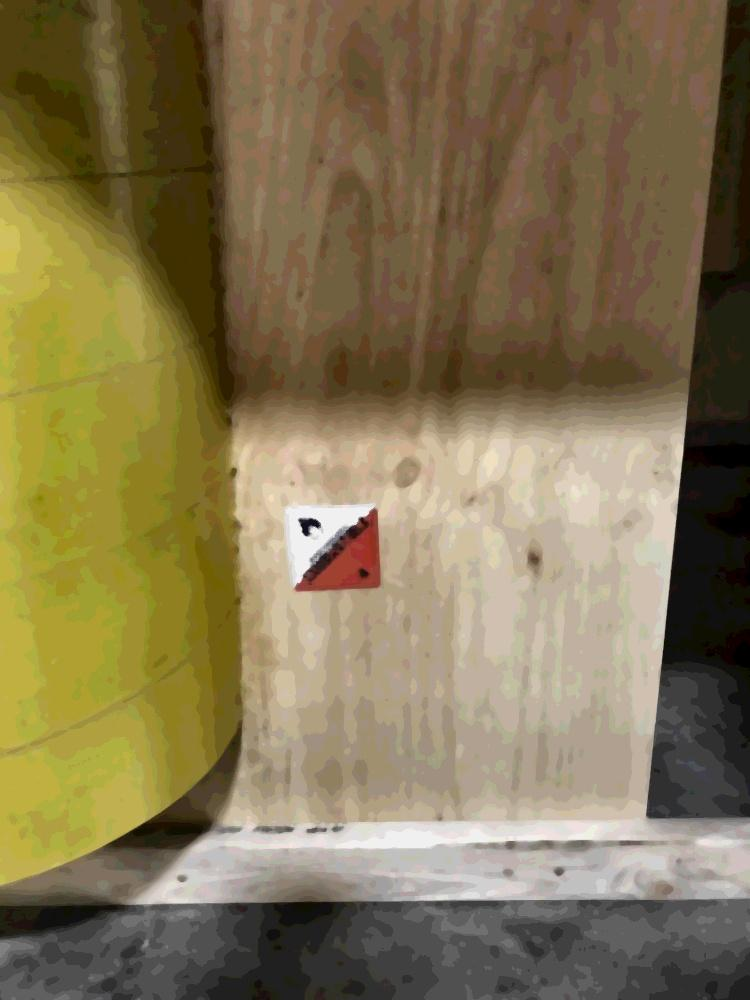spontaneously-combustible: (285, 503, 385, 594)
